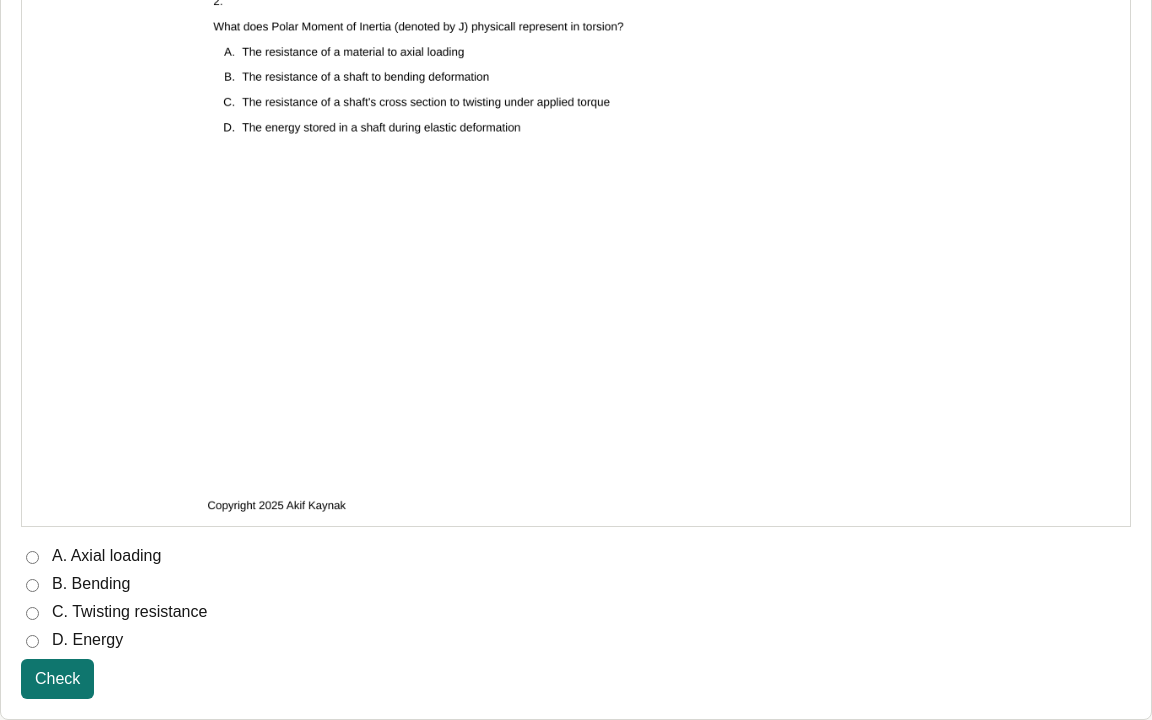
PracticeQuestion › shows the result after checking
(page scrolled)
Click the radio button labelled "C. Twisting resistance" at (32, 614), box [26, 607, 39, 620]
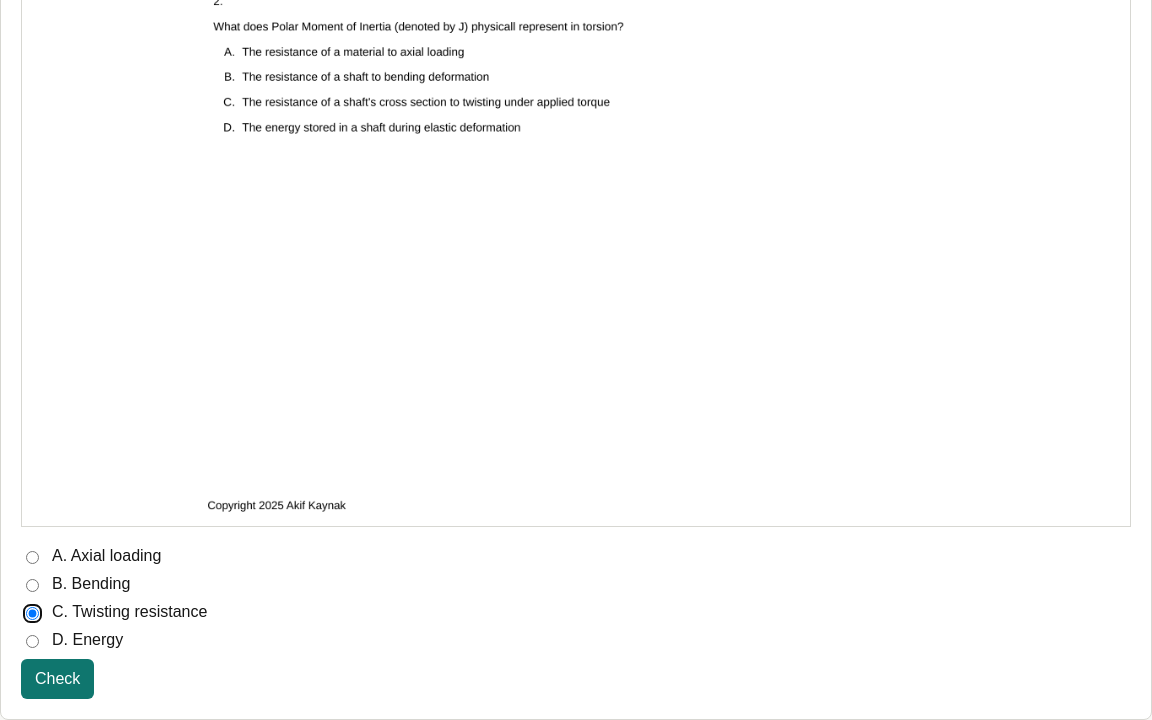
Click the button "Check" at (58, 679), box [21, 659, 94, 699]
(page scrolled)
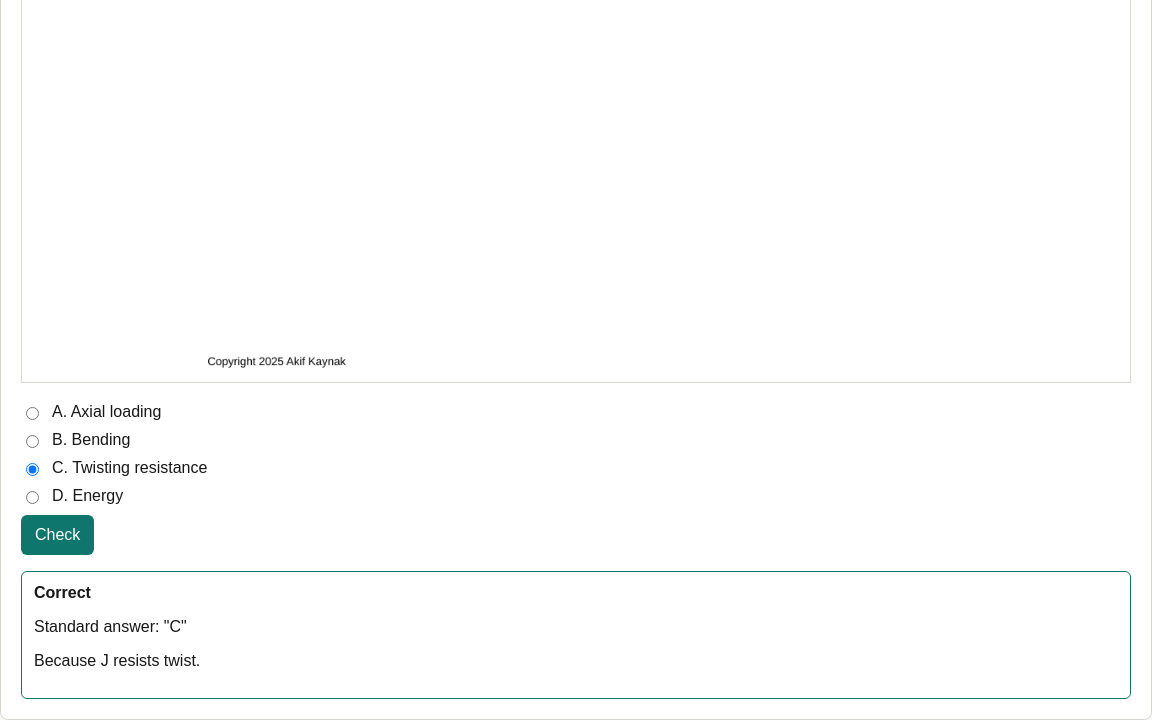
Now the text "Correct" is shown, box [34, 584, 91, 601]
Now the text "Standard answer: \"C\"" is shown, box [34, 618, 187, 635]
